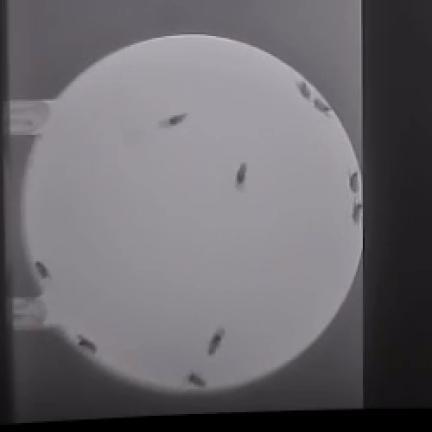fly: (208, 328, 224, 356), (78, 335, 96, 354), (187, 373, 207, 388), (163, 114, 186, 127), (315, 98, 331, 115), (35, 261, 50, 278), (298, 81, 311, 100), (237, 164, 247, 187), (353, 200, 362, 223), (350, 171, 359, 192)
